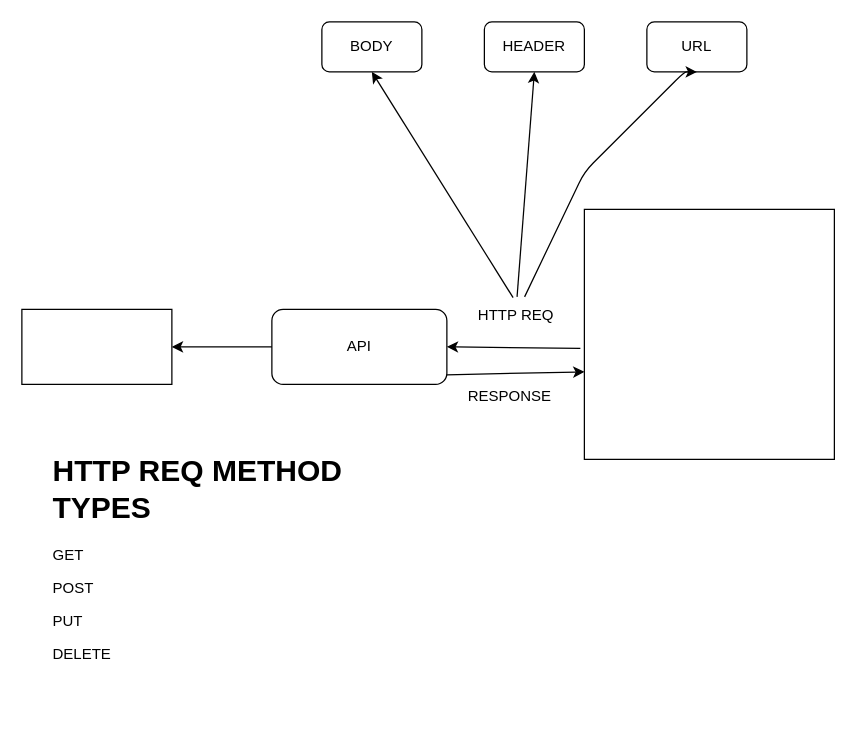
Image size: 856x731. Some labels were removed from this diagram. Here are the shapes that lost their labels. From the top down, the box of each, then its label:
(21, 308, 172, 384): Database
(583, 208, 834, 459): FRONTEND
